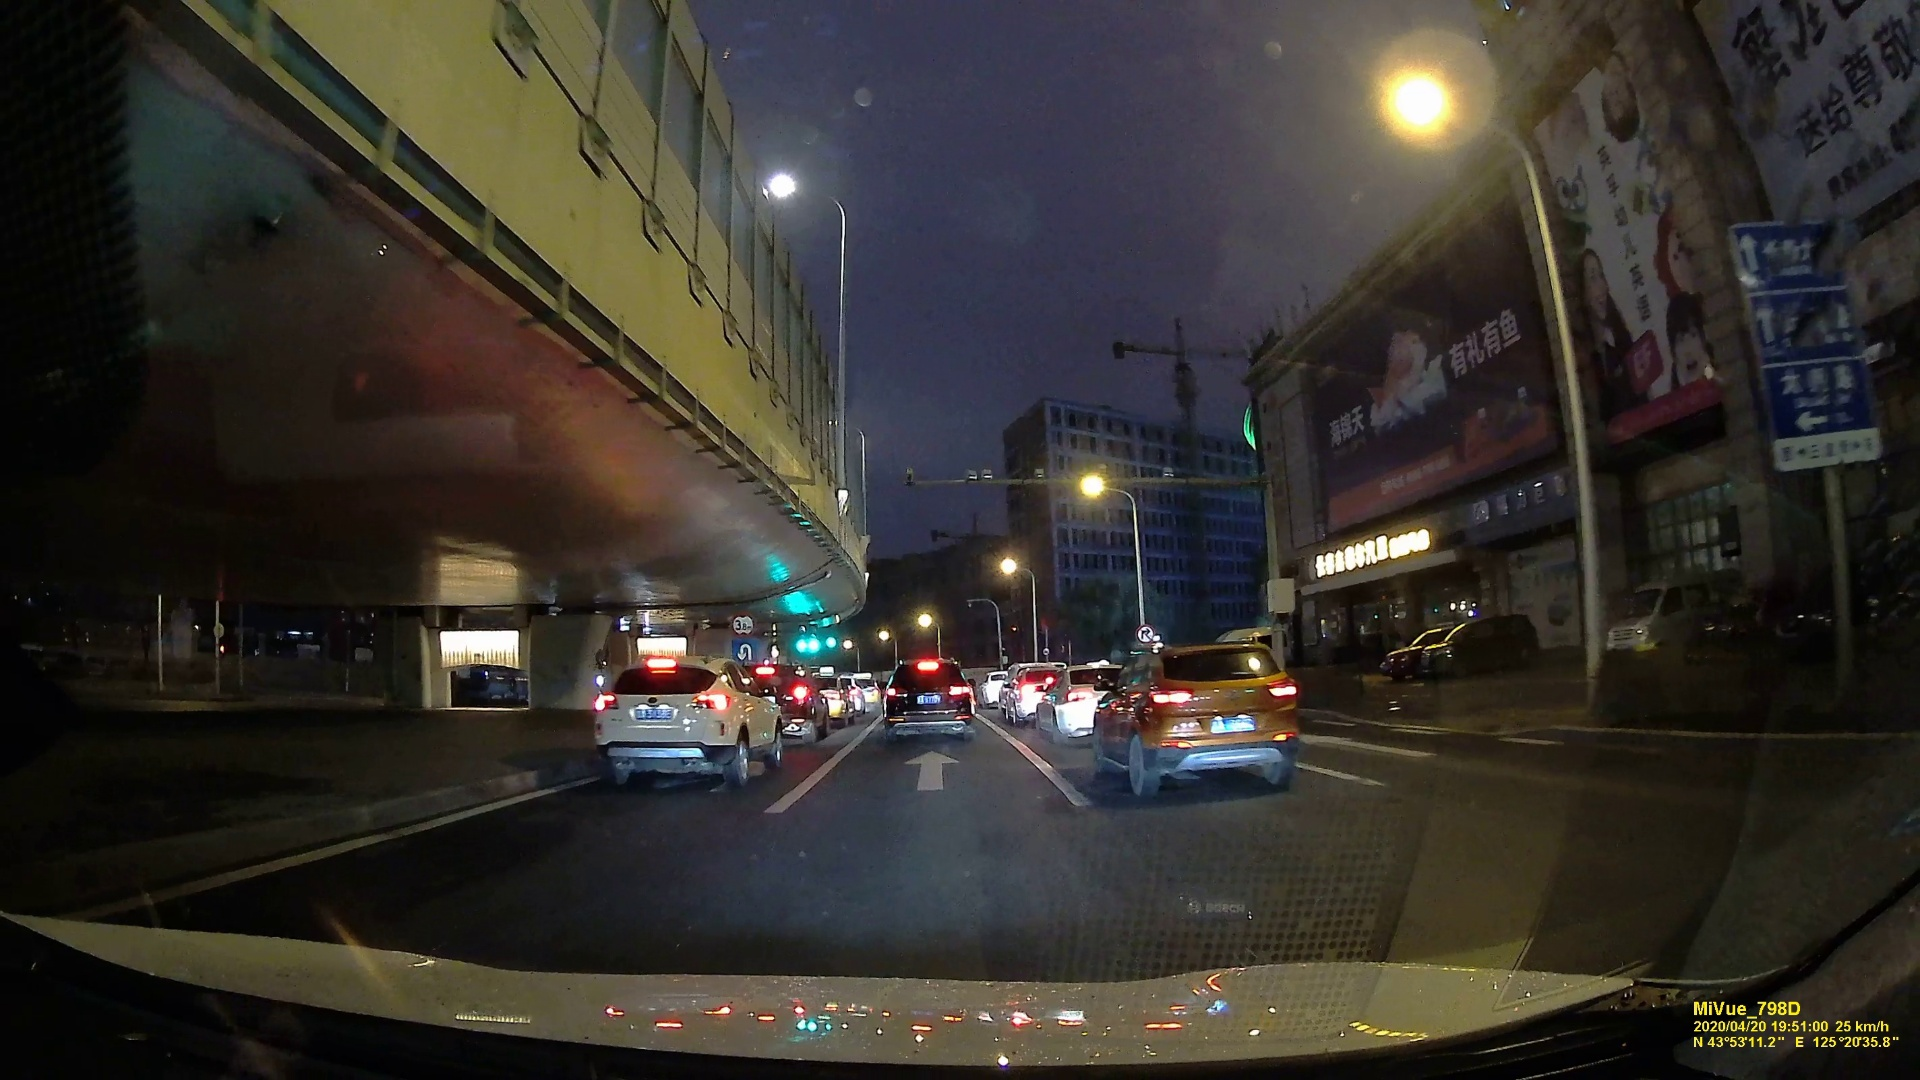minibus: (1601, 576, 1714, 661)
traffic_sign: (1731, 222, 1875, 464), (731, 615, 756, 638), (1135, 624, 1155, 644)
vehicle: (1092, 640, 1299, 793), (593, 661, 778, 789), (878, 658, 976, 740), (1033, 662, 1126, 740)
